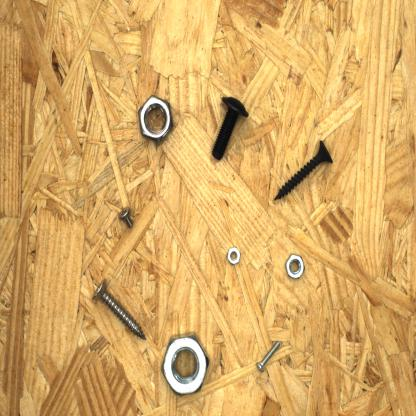screw: (270, 136, 335, 207), (88, 275, 149, 344), (209, 90, 252, 165), (253, 338, 281, 376), (115, 201, 136, 235)
